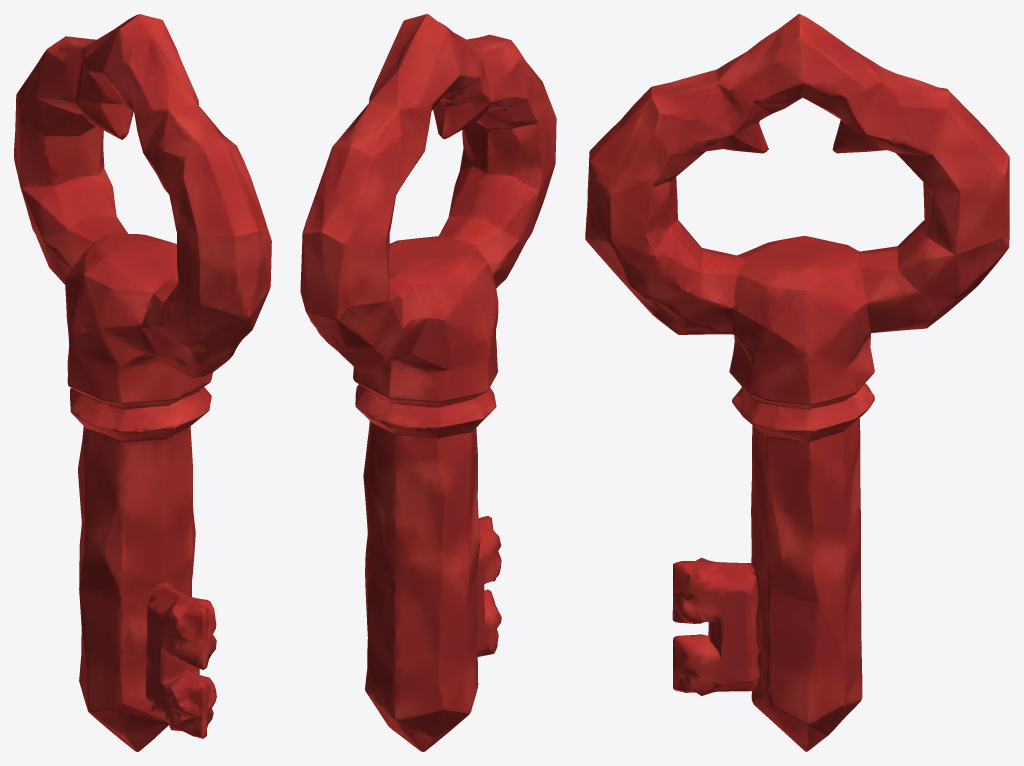
Rendered from tripo_convert_49bec99e-c542-48ce-be55-9cfc5cad5e5e.fbx.
3 renders of one model, left to right at view 1: azimuth 30°, elevation 25°; view 2: azimuth 150°, elevation 25°; view 3: azimuth 270°, elevation 25°, orthographic.
Parts seen in each view (by area): view 1: tripo_node_49bec99e; view 2: tripo_node_49bec99e; view 3: tripo_node_49bec99e.
Part boxes in pixels (box(x1,y1,x2,y2)): tripo_node_49bec99e: box(14, 14, 271, 751); tripo_node_49bec99e: box(300, 14, 556, 751); tripo_node_49bec99e: box(585, 14, 1009, 751).
Bounding box in the file's own units: 0.1873 × 0.9782 × 0.5111.
1 material, 1 textured.
